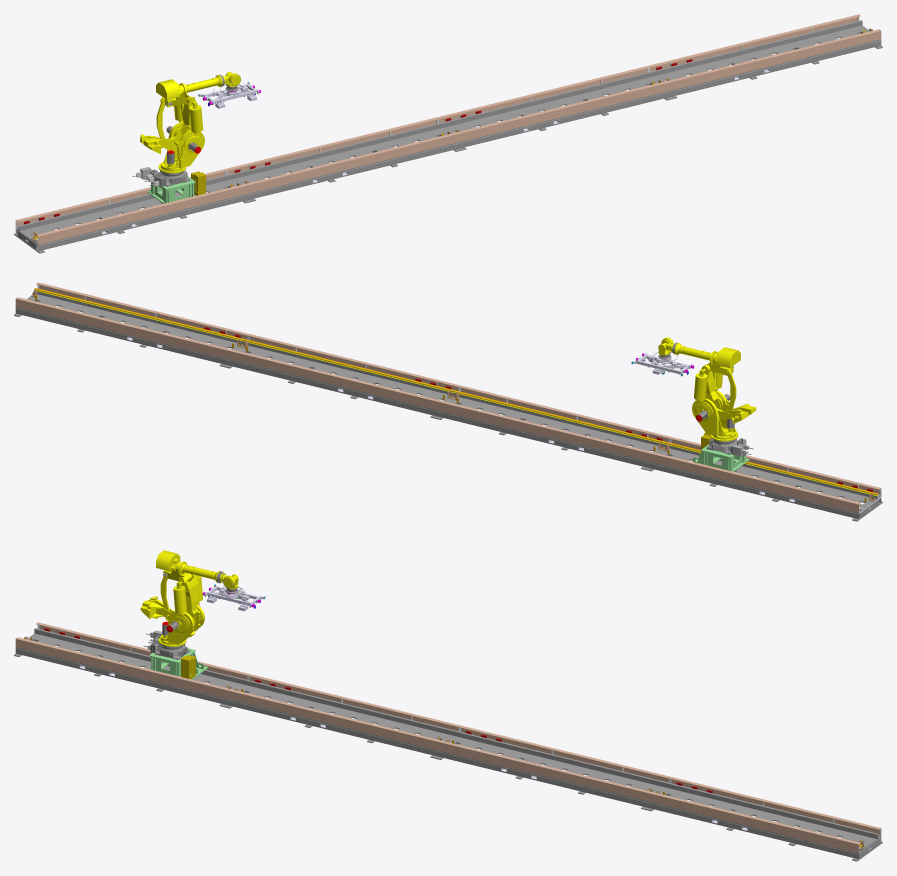
Rendered from TransferRobot.glb.
3 views of the same model, one above another, from view 1: azimuth 30°, elevation 25°; view 2: azimuth 150°, elevation 25°; view 3: azimuth 330°, elevation 25° (orthographic).
Visible parts, largest first — view 1: Rails4, Rails3, Rails2, Rails1, Base, Z1.001, M900iA-600F.3.1, M900iA_if-600F.2a.1, M900iA_if-600F.2c.1; view 2: Rails4, Rails3, Rails2, Rails1, Base, Z1.001, M900iA-600F.3.1; view 3: Rails4, Rails2, Rails3, Rails1, Base, Z1.001, M900iA-600F.3.1.
Boxes of the visible parts, x1,y1,x2,y2 form: Rails4: (648, 14, 882, 99); Rails3: (437, 66, 672, 150); Rails2: (227, 117, 461, 201); Rails1: (14, 168, 250, 253); Base: (132, 167, 205, 203); Z1.001: (158, 120, 204, 173); M900iA-600F.3.1: (156, 74, 224, 107); M900iA_if-600F.2a.1: (140, 127, 182, 153); M900iA_if-600F.2c.1: (174, 101, 203, 132); Rails4: (14, 282, 248, 367); Rails3: (224, 334, 459, 418); Rails2: (435, 385, 669, 469); Rails1: (646, 436, 882, 521); Base: (692, 432, 753, 471); Z1.001: (692, 390, 738, 441); M900iA-600F.3.1: (672, 342, 740, 375); Rails4: (646, 776, 882, 861); Rails2: (224, 674, 459, 758); Rails3: (435, 725, 669, 809); Rails1: (14, 622, 248, 707); Base: (143, 630, 208, 679); Z1.001: (158, 603, 204, 646); M900iA-600F.3.1: (156, 550, 223, 583).
Size of the model in its own units: 24 by 3.45 by 1.46.
